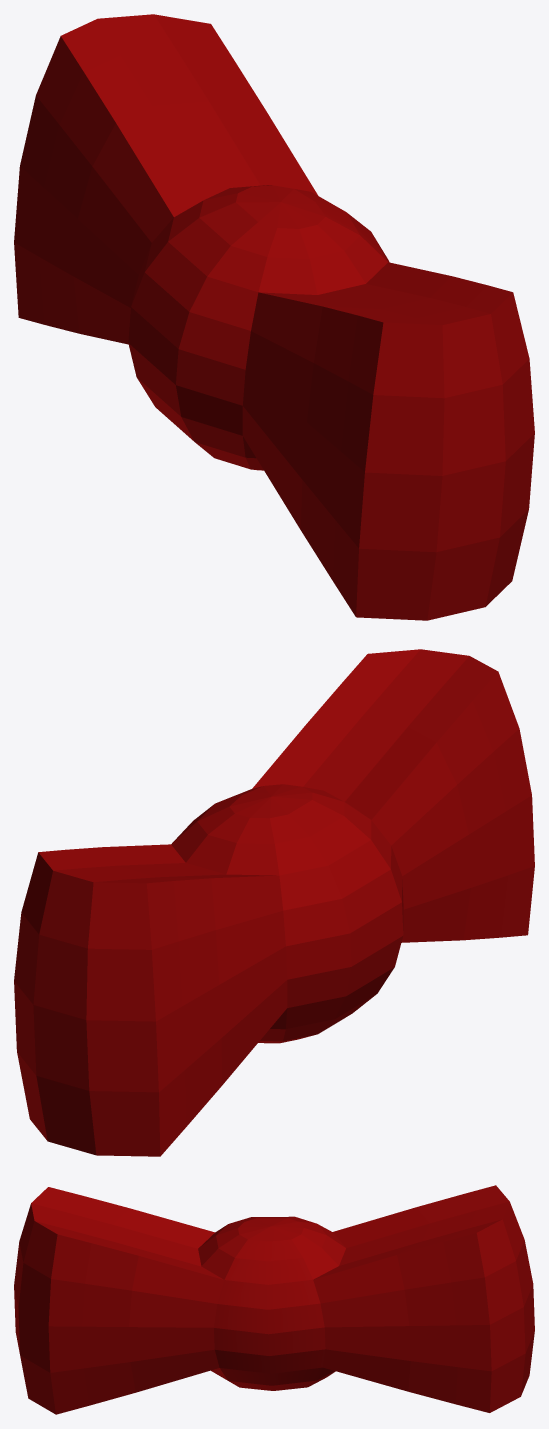
Rendered from bowtie.fbx.
The picture shows the model from 3 angles, top to bottom: view 1: azimuth 30°, elevation 25°; view 2: azimuth 150°, elevation 25°; view 3: azimuth 270°, elevation 25°; orthographic projection. The views are drawn at different scales.
Visible parts, largest first — view 1: pasted__pSphere2; view 2: pasted__pSphere2; view 3: pasted__pSphere2.
Part boxes in pixels (x1,y1,x2,y2): pasted__pSphere2: (14, 14, 534, 620); pasted__pSphere2: (14, 649, 534, 1156); pasted__pSphere2: (14, 1185, 534, 1414).
Size of the model in its own units: 0.4933 by 0.623 by 1.49.
